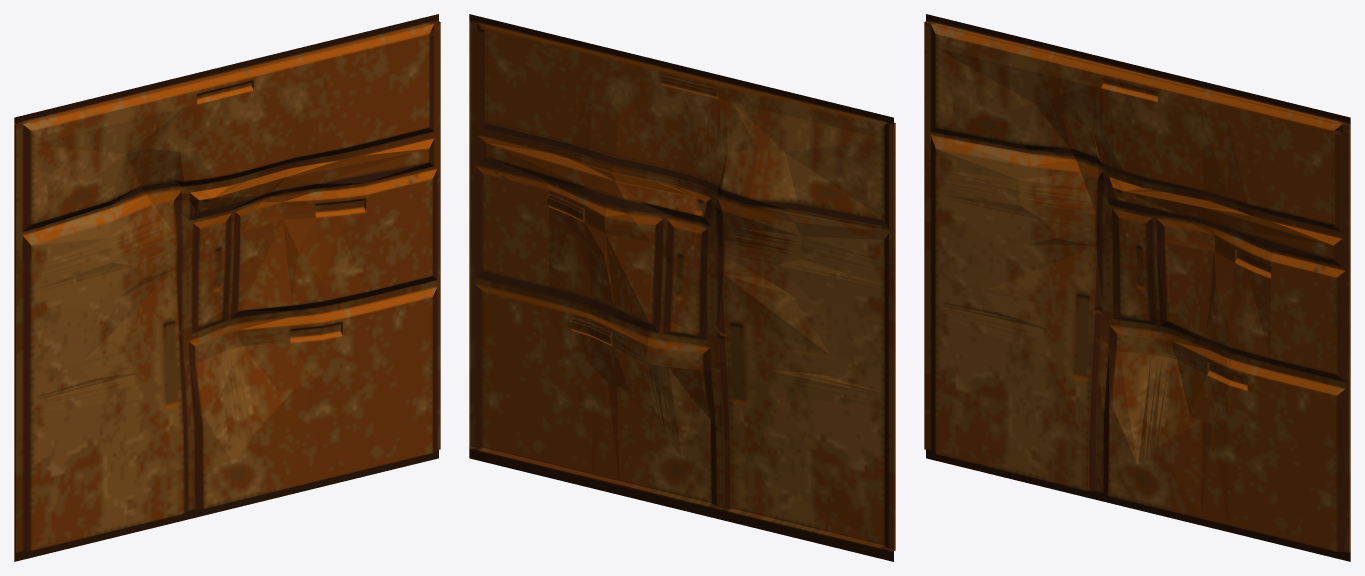
File: maint1_2d.fbx
The picture shows the model from 3 angles, left to right: view 1: azimuth 30°, elevation 25°; view 2: azimuth 150°, elevation 25°; view 3: azimuth 330°, elevation 25°; orthographic projection.
Parts seen in each view (by area): view 1: maint1_2d_mesh; view 2: maint1_2d_mesh; view 3: maint1_2d_mesh.
Boxes of the visible parts, x1=… form: maint1_2d_mesh: x1=14, y1=14, x2=440, y2=561; maint1_2d_mesh: x1=469, y1=14, x2=895, y2=561; maint1_2d_mesh: x1=924, y1=14, x2=1350, y2=561.
Size of the model in its own units: 256 by 256 by 15.65.
